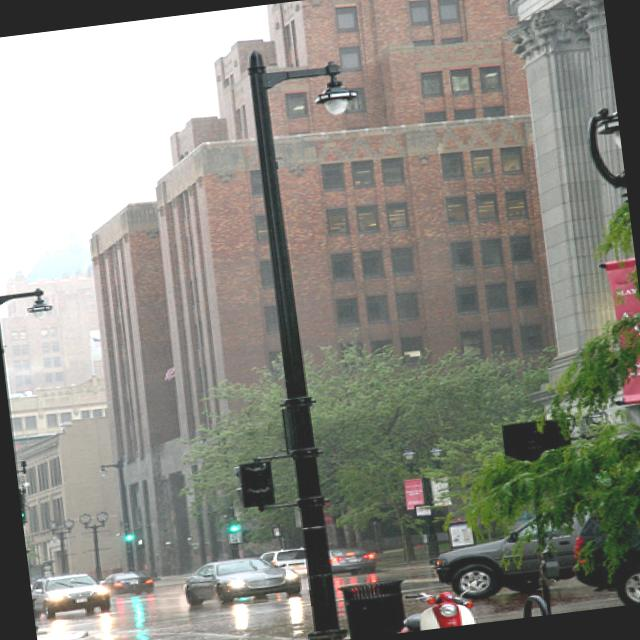Vehicle: (431, 508, 602, 604), (559, 483, 640, 611), (182, 552, 300, 608), (387, 584, 481, 634), (29, 568, 111, 621), (329, 542, 382, 578), (98, 569, 154, 599), (260, 546, 308, 579)
